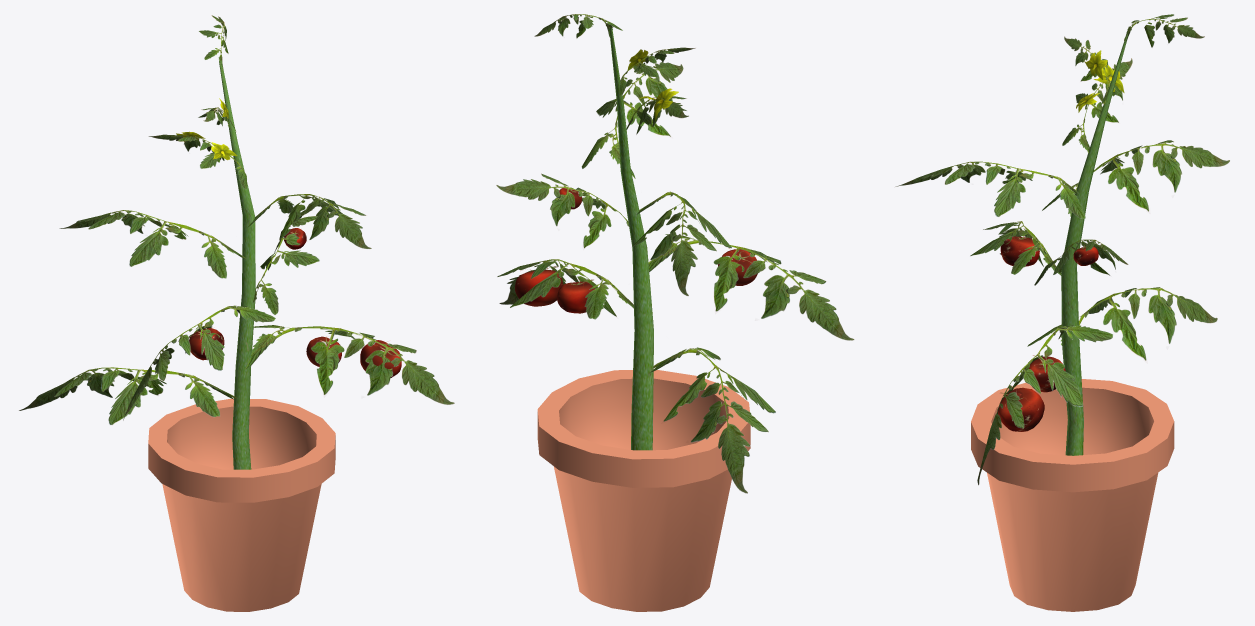
File: sick-tomato-plant.glb
The picture shows the model from 3 angles, left to right: view 1: azimuth 30°, elevation 25°; view 2: azimuth 150°, elevation 25°; view 3: azimuth 270°, elevation 25°; orthographic projection. The views are drawn at different scales.
Visible parts, largest first — view 1: 4-bis.002, tomato-plant.001; view 2: 4-bis.002, tomato-plant.001; view 3: 4-bis.002, tomato-plant.001.
Part boxes in pixels (x1,y1,x2,y2): 4-bis.002: [148, 398, 335, 611]; tomato-plant.001: [19, 15, 454, 469]; 4-bis.002: [537, 370, 750, 611]; tomato-plant.001: [496, 14, 854, 493]; 4-bis.002: [971, 379, 1174, 611]; tomato-plant.001: [895, 14, 1229, 485].
Size of the model in its own units: 6.09 by 9.32 by 5.17.
Materials: 2 (2 with a texture image).
